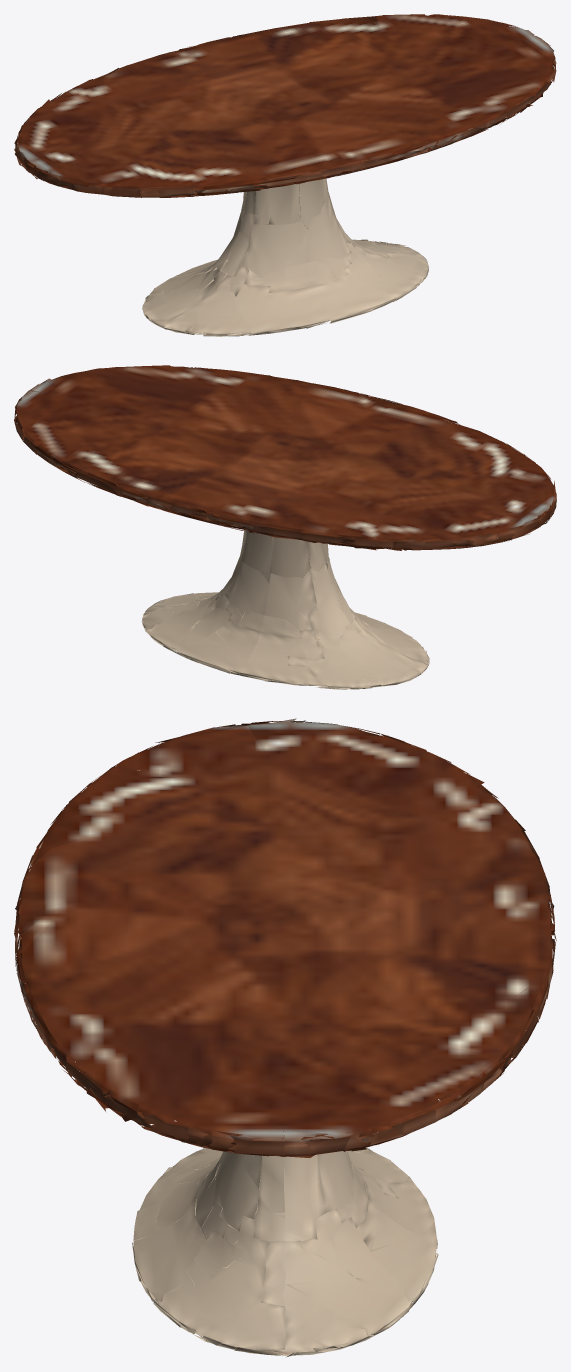
File: jettable.glb
3 renders of one model, top to bottom at view 1: azimuth 30°, elevation 25°; view 2: azimuth 150°, elevation 25°; view 3: azimuth 270°, elevation 25°, orthographic. The views are drawn at different scales.
Parts seen in each view (by area): view 1: LO.001; view 2: LO.001; view 3: LO.001.
Boxes of the visible parts, <box> form: LO.001: <box>14,14,556,336</box>; LO.001: <box>14,365,556,689</box>; LO.001: <box>14,718,556,1357</box>.
Size of the model in its own units: 1.9 by 0.6779 by 1.04.
1 material, 1 textured.
